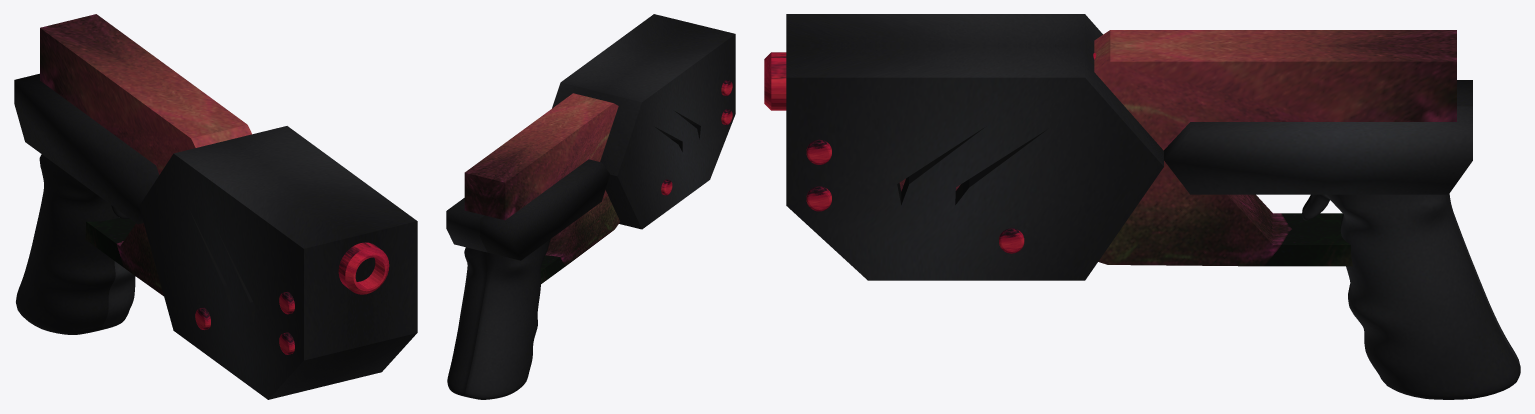
The model's file is finalgun.obj.
3 views of the same model, side by side, from view 1: azimuth 30°, elevation 25°; view 2: azimuth 150°, elevation 25°; view 3: azimuth 270°, elevation 25° (orthographic). The views are drawn at different scales.
Visible parts, largest first — view 1: Barrel_Cube.003, Grip_Cube.002, Handle_Cube, HandleTop_Cube.006, Canon_Cylinder; view 2: Barrel_Cube.003, Grip_Cube.002, Handle_Cube, HandleTop_Cube.006; view 3: Barrel_Cube.003, Grip_Cube.002, Handle_Cube, HandleTop_Cube.006, Canon_Cylinder.
Boxes of the visible parts, left/top/right/bottom form: Barrel_Cube.003: left=139, top=126, right=417, bottom=399; Grip_Cube.002: left=40, top=14, right=251, bottom=296; Handle_Cube: left=16, top=154, right=135, bottom=334; HandleTop_Cube.006: left=14, top=73, right=159, bottom=224; Canon_Cylinder: left=338, top=242, right=389, bottom=294; Barrel_Cube.003: left=552, top=14, right=735, bottom=229; Grip_Cube.002: left=464, top=93, right=620, bottom=283; Handle_Cube: left=447, top=239, right=550, bottom=399; HandleTop_Cube.006: left=446, top=159, right=609, bottom=260; Barrel_Cube.003: left=786, top=14, right=1163, bottom=280; Grip_Cube.002: left=1094, top=30, right=1456, bottom=266; Handle_Cube: left=1302, top=194, right=1520, bottom=399; HandleTop_Cube.006: left=1164, top=80, right=1472, bottom=194; Canon_Cylinder: left=764, top=52, right=1096, bottom=110.
Bounding box in the file's own units: 0.3598 × 0.8031 × 1.65.
3 materials, 3 textured.
